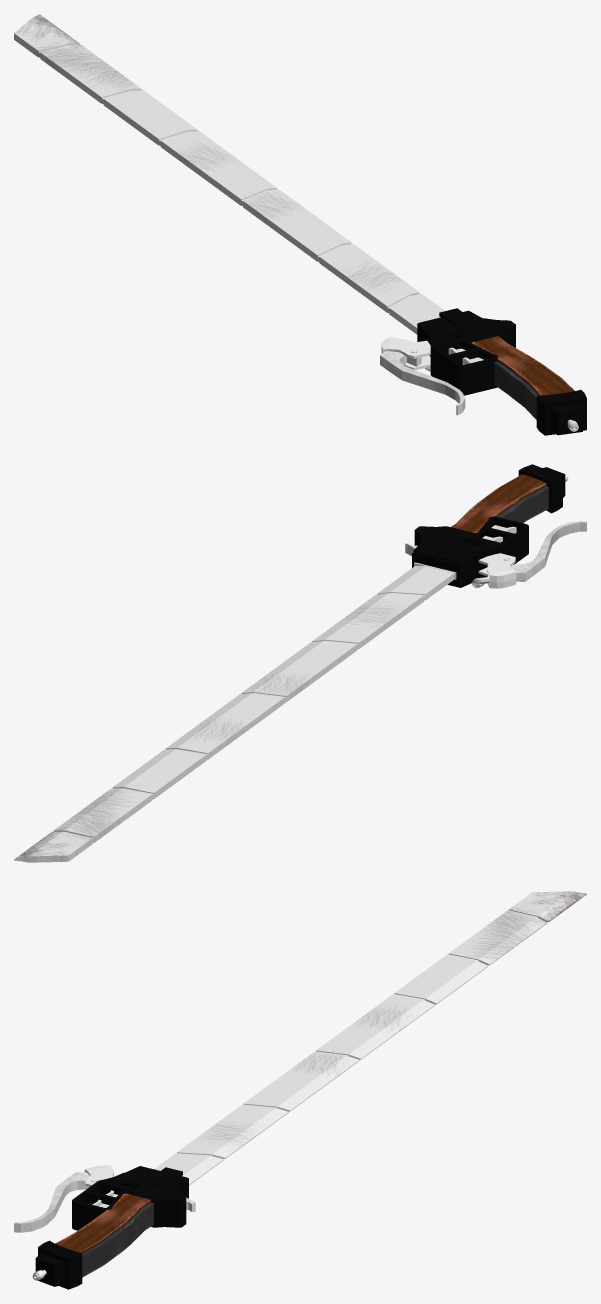
The model's file is attack_on_titan_gear_sword_-_low_poly.glb.
3 views of the same model, one above another, from view 1: azimuth 30°, elevation 25°; view 2: azimuth 150°, elevation 25°; view 3: azimuth 330°, elevation 25° (orthographic). The views are drawn at different scales.
Visible parts, largest first — view 1: Handle_Base_02_lp; view 2: Handle_Base_02_lp; view 3: Handle_Base_02_lp.
Part boxes in pixels (x1,y1,x2,y2): Handle_Base_02_lp: (14, 14, 586, 435); Handle_Base_02_lp: (14, 464, 586, 862); Handle_Base_02_lp: (14, 891, 586, 1289).
Size of the model in its own units: 263 by 75.01 by 2007.
Materials: 1 (1 with a texture image).
